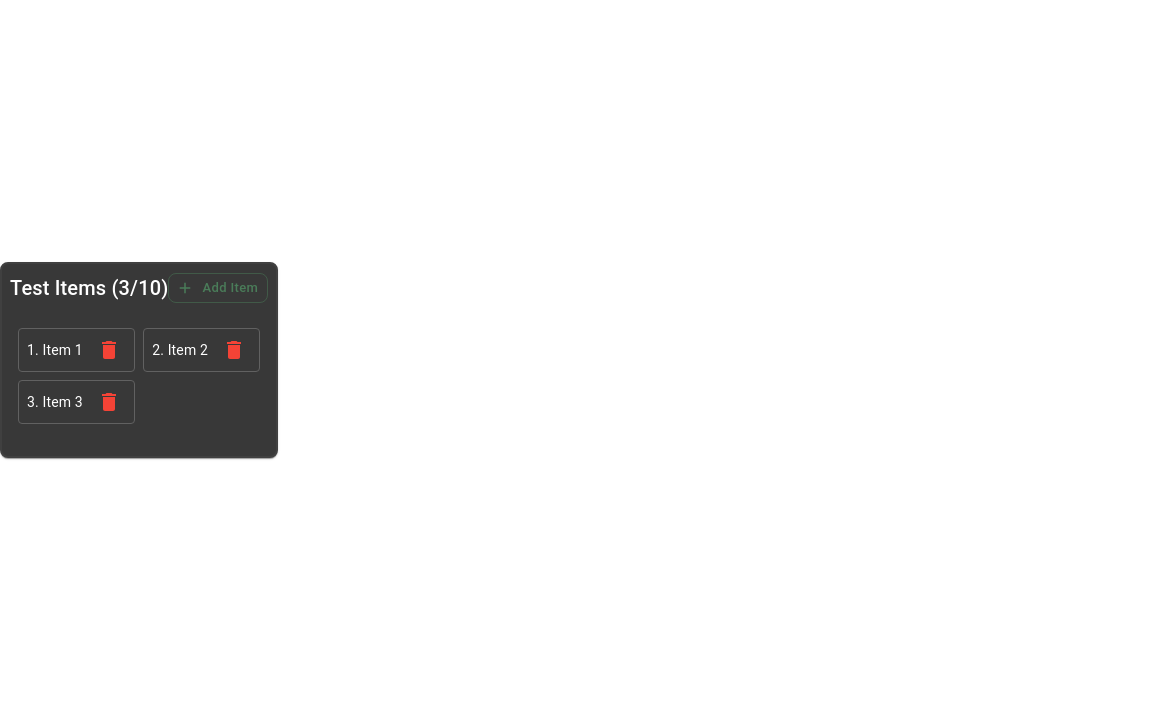
Test: ItemList › Add Item Functionality › opens add item dialog when add button is clicked
This screenshot has width=1152, height=720.
Click the button "Add Item": coordinates (218, 288) [168, 273, 268, 303]
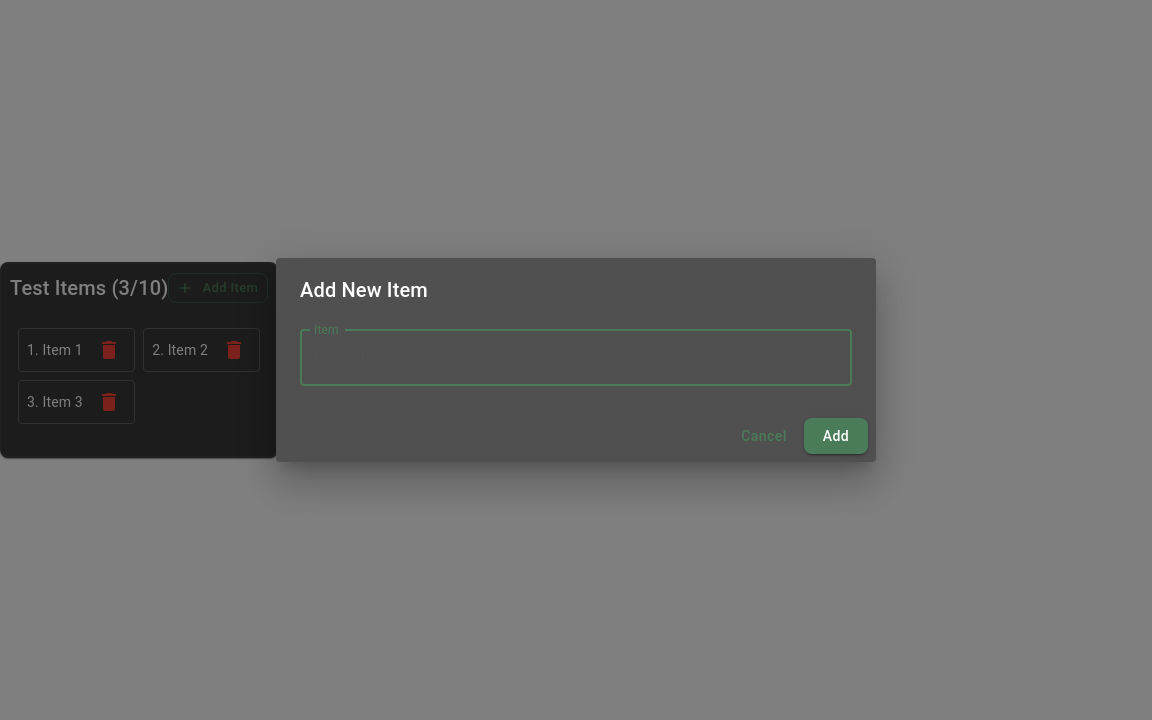
expect the heading "Add New Item" is shown: met, box [300, 278, 428, 302]
expect the field labelled "Item" is shown: met, box [300, 330, 852, 386]
expect the button "Add" is shown: met, box [804, 418, 868, 454]
